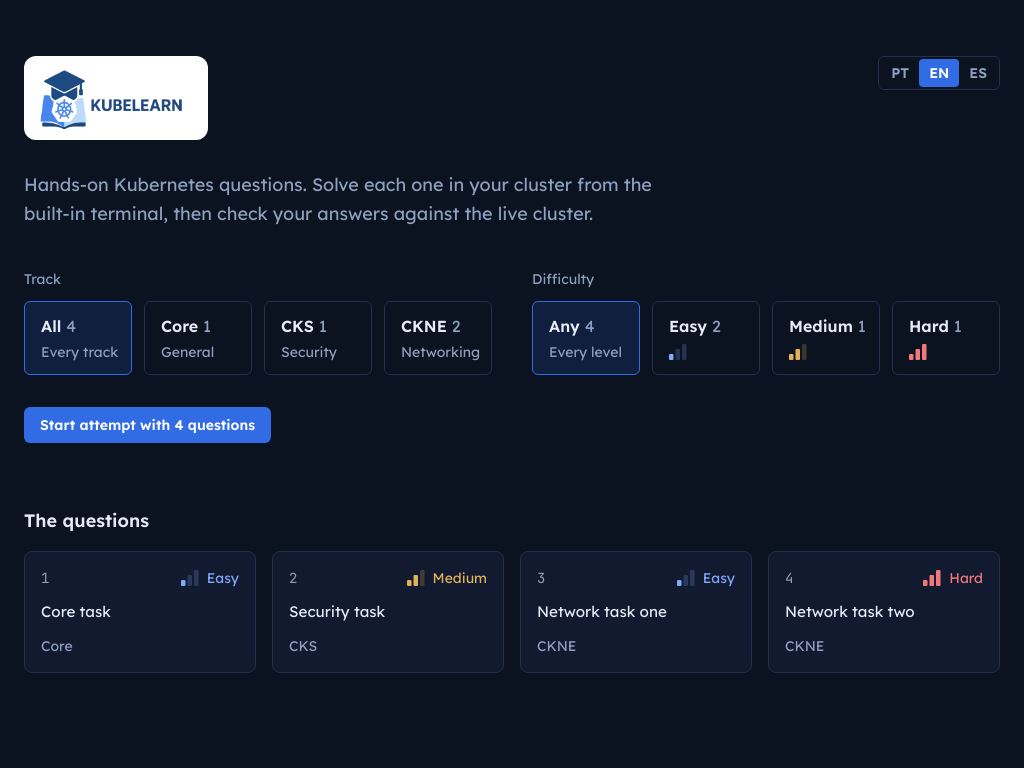
tracks › filters by difficulty, alone and combined with a track
This screenshot has width=1024, height=768.
Expected: the heading "Security task" is shown, [289,602,385,620]
Expected: the radio button with aria-label "Any difficulty, 4 questions" is checked, [532,300,640,374]
Click the radio button with aria-label "Easy difficulty, 2 questions": (706, 338) [652,300,760,374]
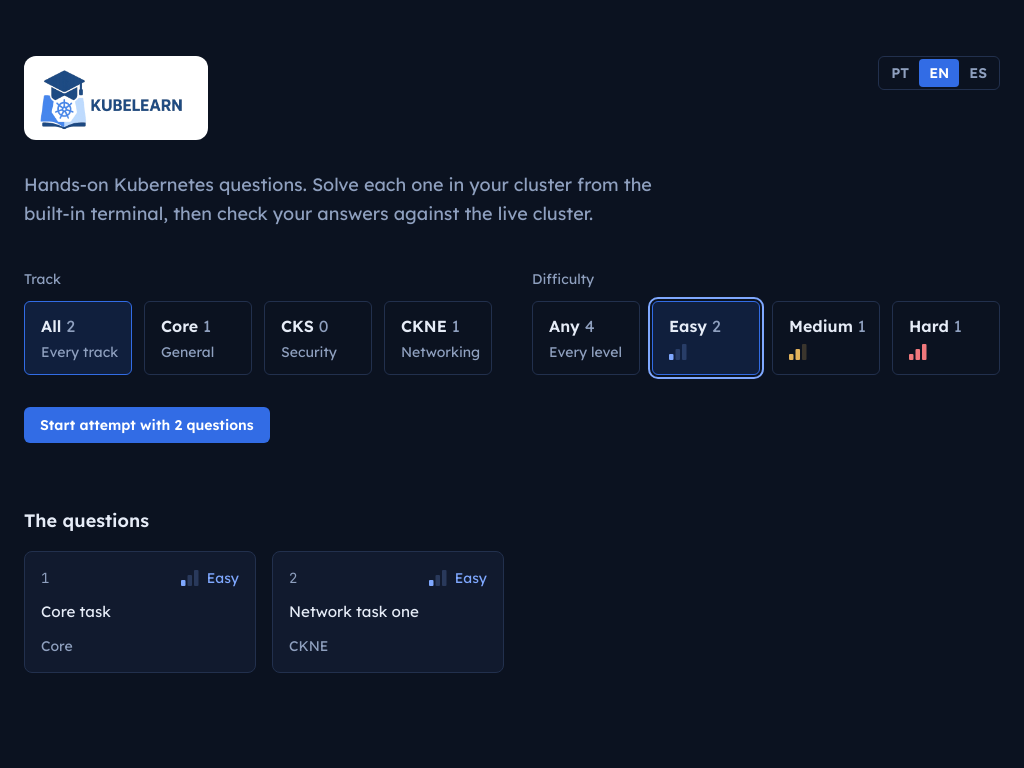
Expected: the heading "Core task" is shown, [41,602,111,620]
Expected: the number of list items is 2, [24,550,256,673]; [272,550,504,673]
Click the radio button with aria-label "CKNE track, 1 questions": (438, 338) [384,300,492,374]
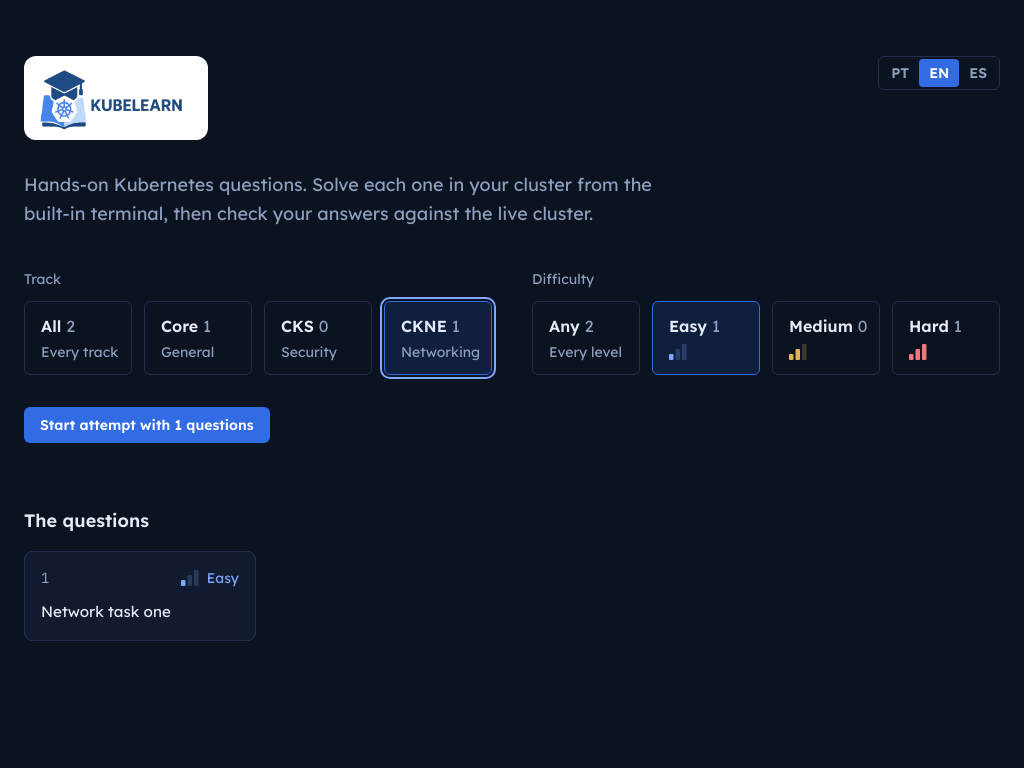
Expected: the number of list items is 1, [24,550,256,641]
Click the button with aria-label "start quiz simulation": (147, 424) [24,406,270,442]
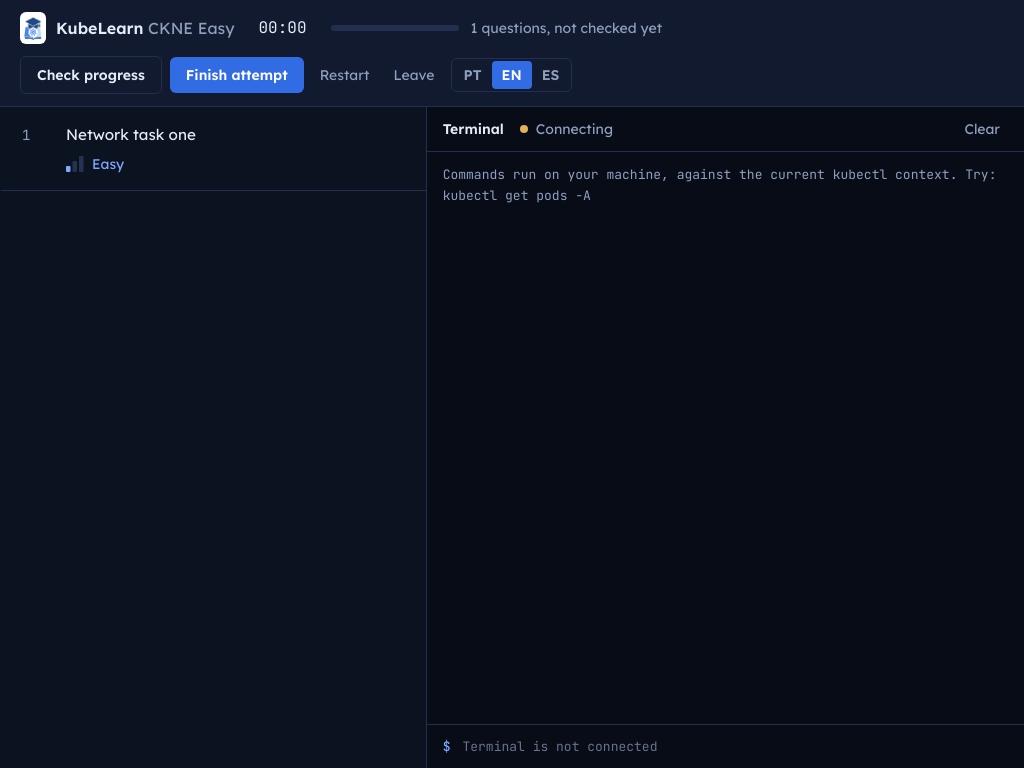
Expected: the button with aria-label "finish current attempt" is shown
Expected: the number of list items is 1, [0,107,426,191]
Click the button with aria-label "finish current attempt": (237, 75) [170,57,304,93]
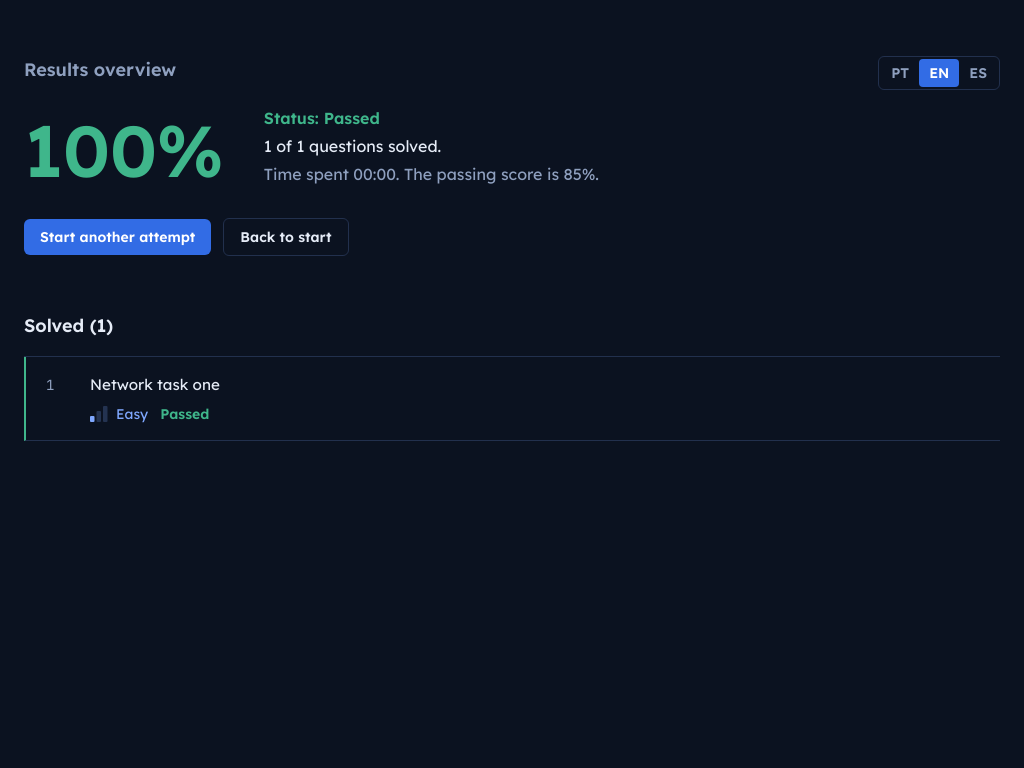
Expected: the text "1 of 1 questions solved." is shown, [264,136,441,156]
